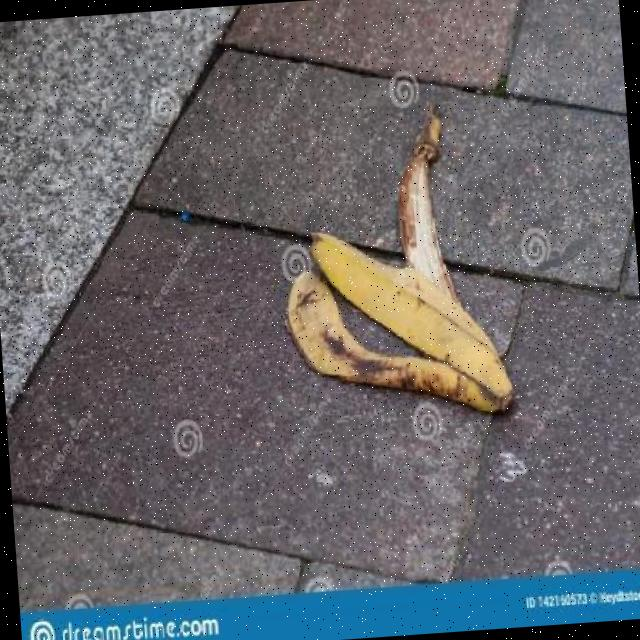banana-peel: (269, 100, 516, 428)
